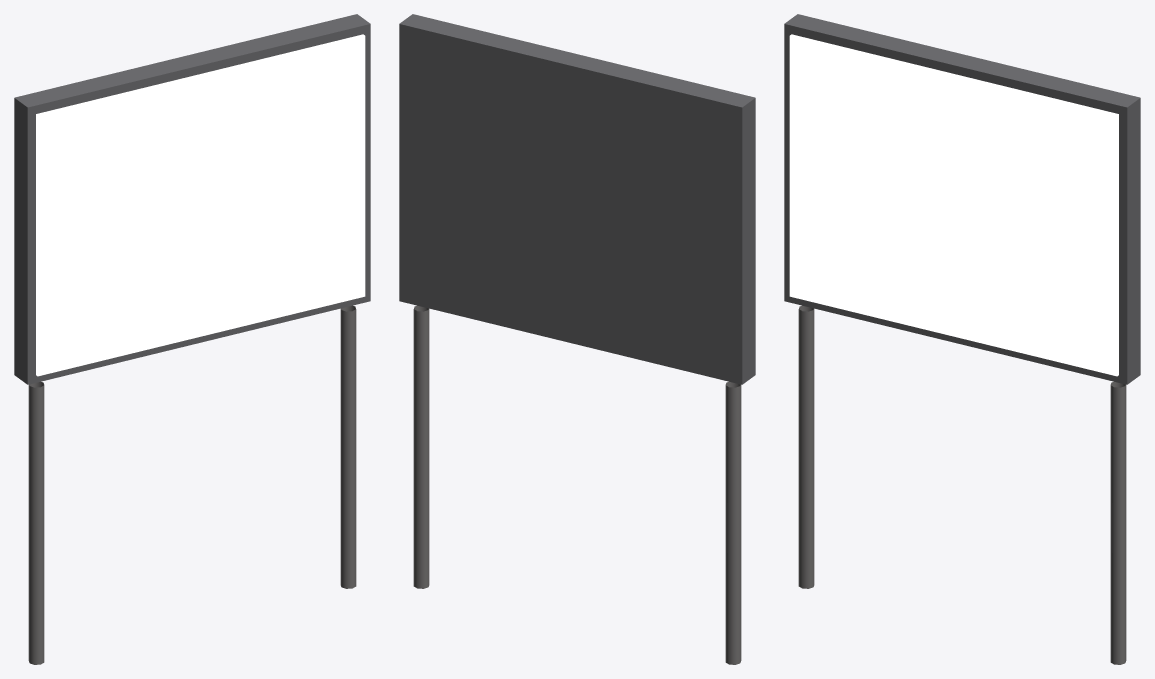
Rendered from billboard.glb.
The picture shows the model from 3 angles, left to right: view 1: azimuth 30°, elevation 25°; view 2: azimuth 150°, elevation 25°; view 3: azimuth 330°, elevation 25°; orthographic projection.
Visible parts, largest first — view 1: billboard; view 2: billboard; view 3: billboard.
Boxes of the visible parts, box(x1,y1,x2,y2) form: billboard: box(14, 14, 370, 664); billboard: box(399, 14, 755, 664); billboard: box(784, 14, 1140, 664).
Bounding box in the file's own units: 4.4 × 6.9 × 0.35.
Materials: 3 (1 with a texture image).
